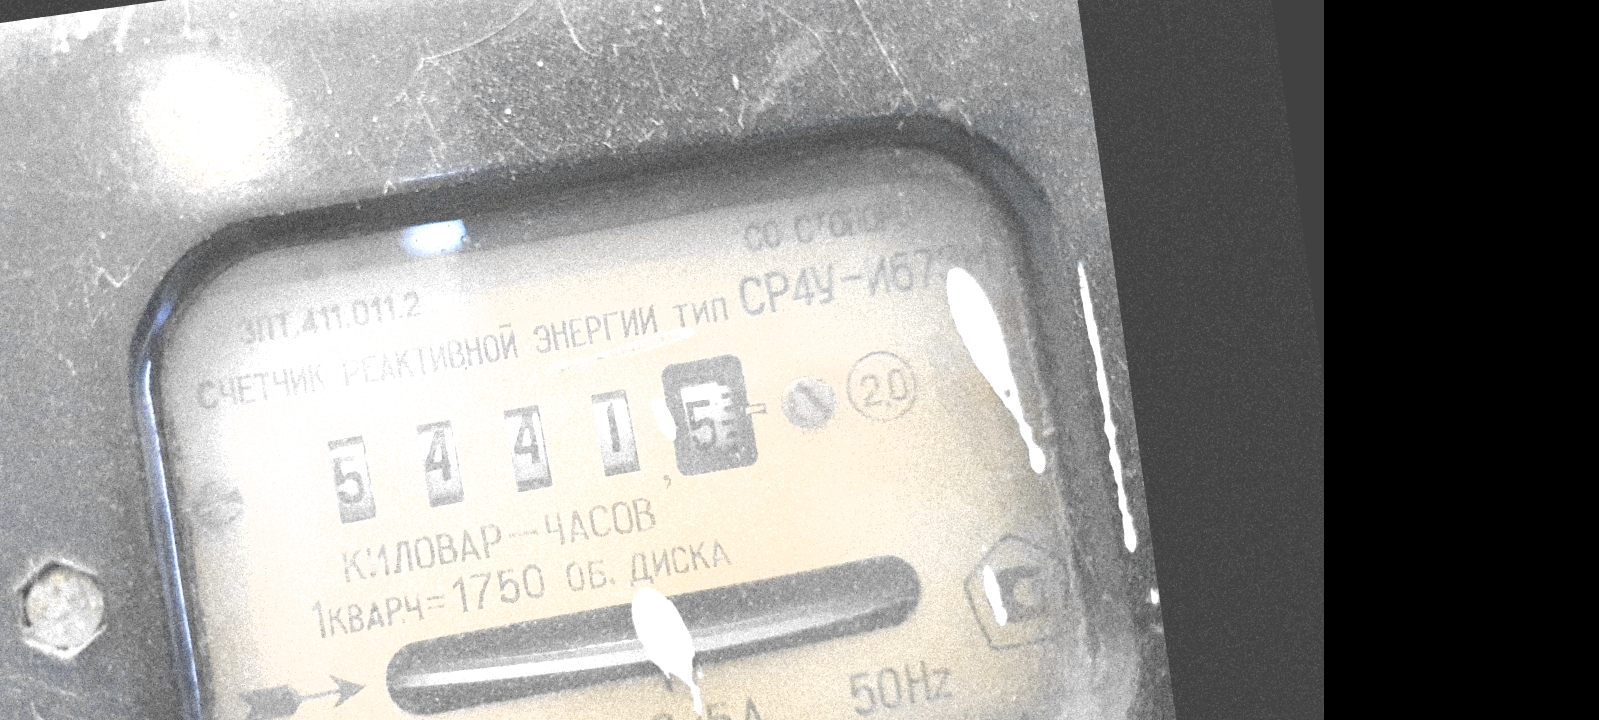1: (596, 397, 628, 458)
4: (502, 404, 548, 474), (416, 422, 459, 488)
5: (680, 390, 723, 457), (326, 448, 372, 509)
screen: (295, 327, 786, 555)
